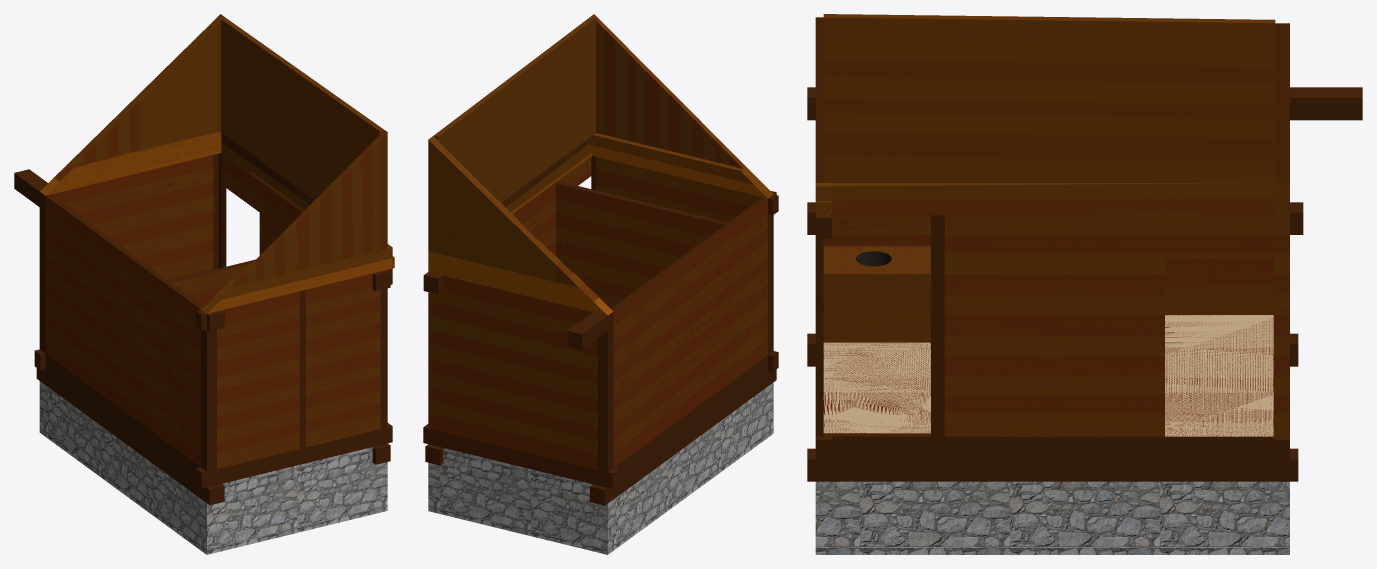
Rendered from chlev.dae.
The picture shows the model from 3 angles, left to right: view 1: azimuth 30°, elevation 25°; view 2: azimuth 150°, elevation 25°; view 3: azimuth 270°, elevation 25°; orthographic projection. The views are drawn at different scales.
Visible parts, largest first — view 1: group_1 (×46), group_0 (×25), group_14; view 2: group_1 (×34), group_0 (×24), group_14; view 3: group_1 (×20), group_0 (×11), group_14.
Part boxes in pixels (bbox=[...]): group_1 (×46): bbox=[39, 153, 392, 554]; group_0 (×25): bbox=[40, 14, 394, 313]; group_14: bbox=[14, 169, 47, 206]; group_1 (×34): bbox=[428, 156, 773, 554]; group_0 (×24): bbox=[428, 16, 773, 315]; group_14: bbox=[567, 312, 607, 349]; group_1 (×20): bbox=[815, 212, 1289, 554]; group_0 (×11): bbox=[815, 14, 1289, 216]; group_14: bbox=[1290, 87, 1362, 120].
Size of the model in its own units: 75.59 by 133 by 142.
Materials: 8 (1 with a texture image).
